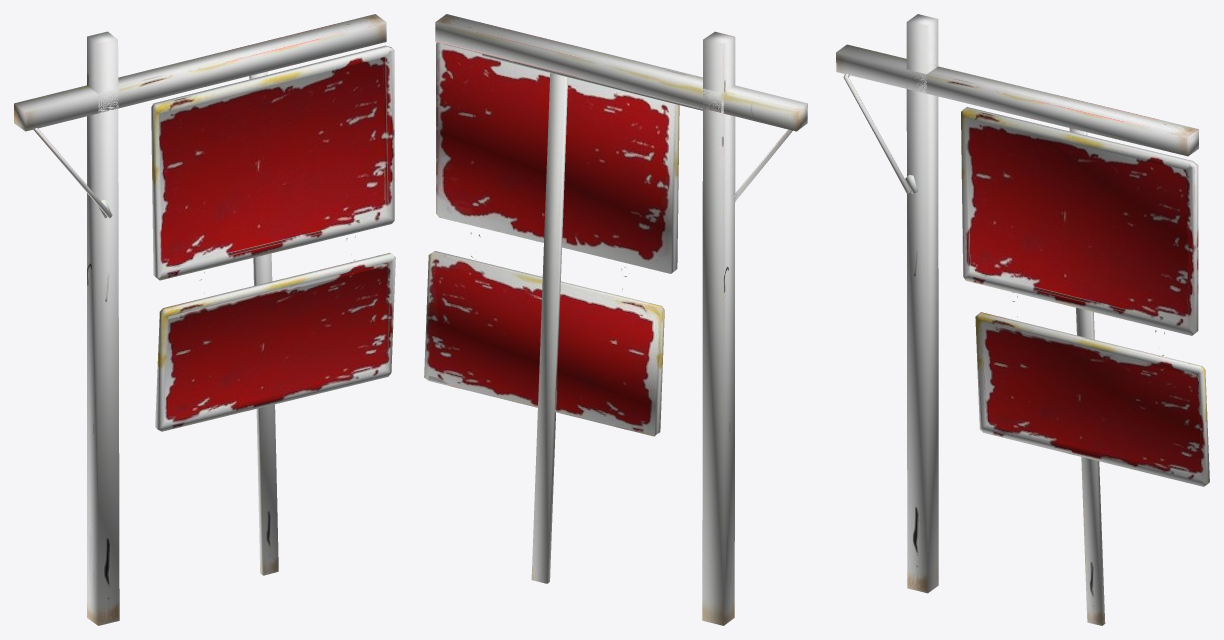
Rendered from real_estate_sign.glb.
The picture shows the model from 3 angles, left to right: view 1: azimuth 30°, elevation 25°; view 2: azimuth 150°, elevation 25°; view 3: azimuth 330°, elevation 25°; orthographic projection. The views are drawn at different scales.
Size of the model in its own units: 1.21 by 1.8 by 0.1083.
Materials: 1 (1 with a texture image).
